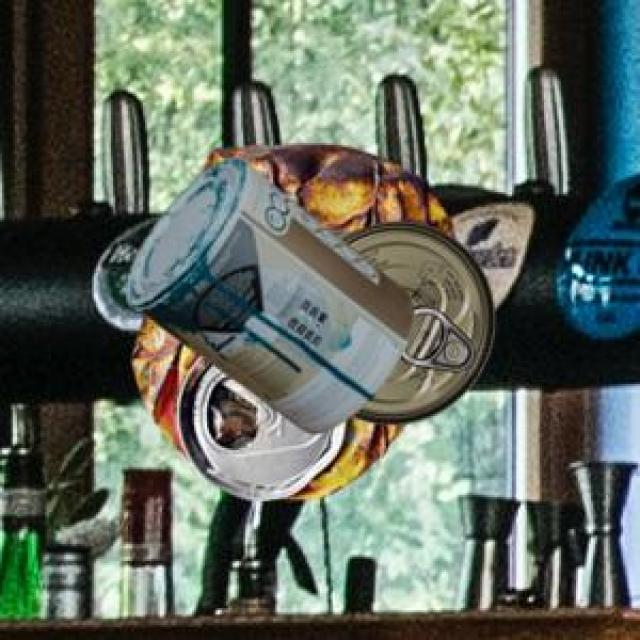logam: (129, 142, 450, 498), (123, 155, 409, 430), (330, 219, 492, 421)
